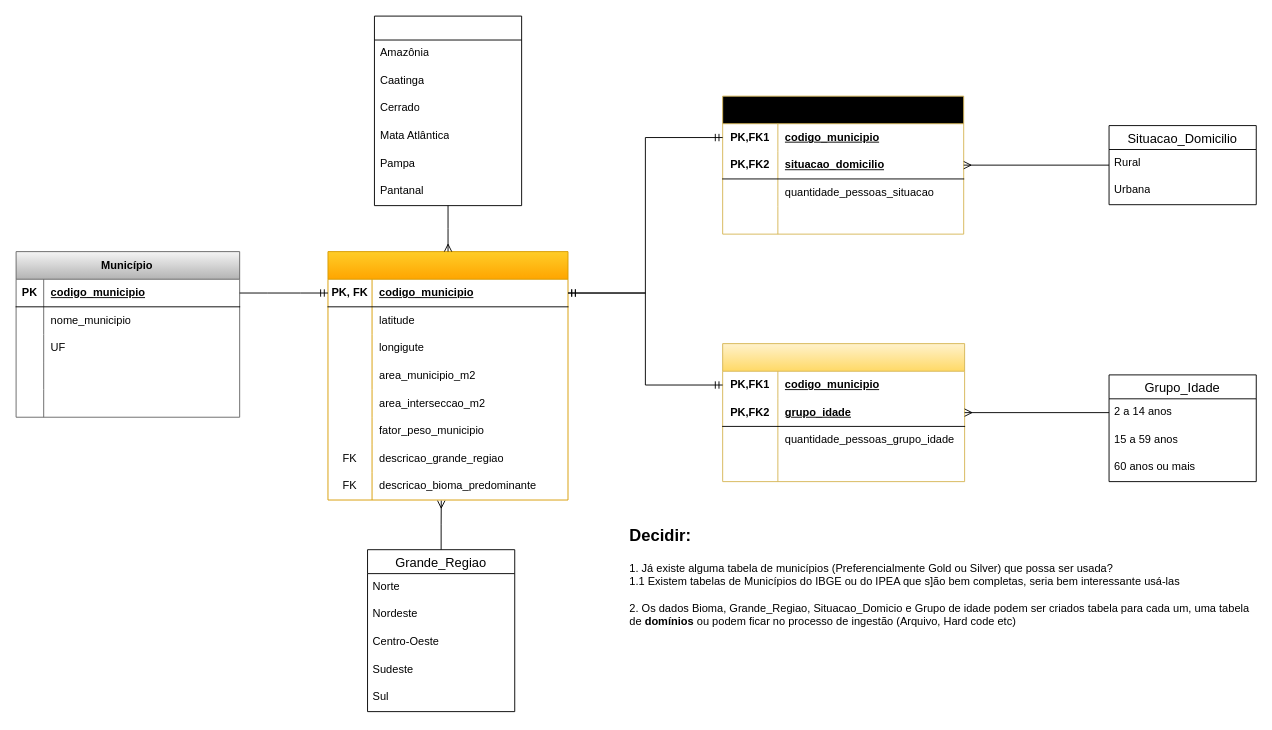
Some shapes in this 1272 by 730 pixel diagram are drawn without their labels. The shapes that lost their labels are listed below. From the top down, each one's box as (x1, y1, x2, y2) in pixels, then its label:
(374, 15, 522, 206): Bioma
(327, 251, 568, 500): MAIS_Município (Dimensão)
(722, 343, 965, 482): Populacao_Grupo_Idade (Fato)
